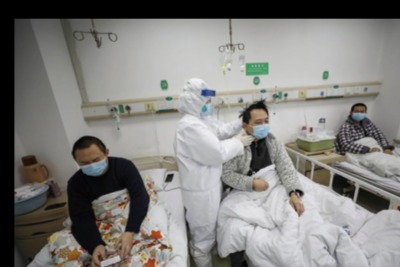with_mask: (76, 153, 106, 176), (250, 115, 271, 141), (201, 97, 215, 118), (353, 107, 366, 120)
